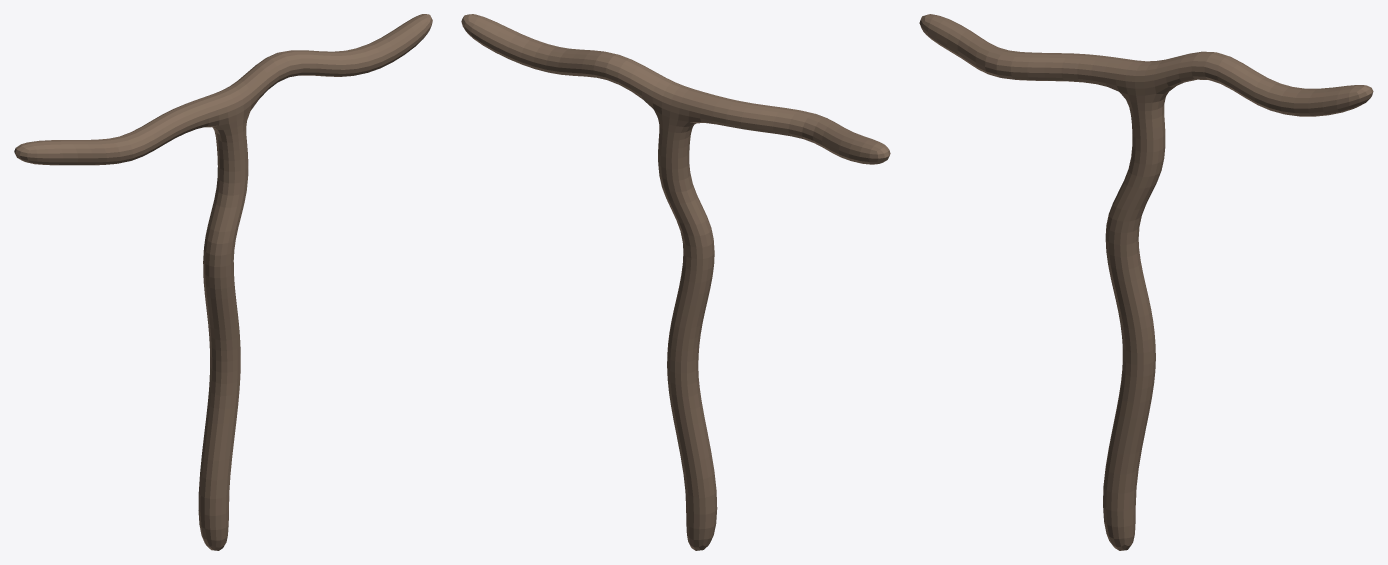
Rendered from FlowerPTwo.fbx.
3 views of the same model, side by side, from view 1: azimuth 30°, elevation 25°; view 2: azimuth 150°, elevation 25°; view 3: azimuth 330°, elevation 25° (orthographic). The views are drawn at different scales.
Parts seen in each view (by area): view 1: Flower Phase Two; view 2: Flower Phase Two; view 3: Flower Phase Two.
Boxes of the visible parts, <box> form: Flower Phase Two: <box>14,14,432,550</box>; Flower Phase Two: <box>461,14,890,550</box>; Flower Phase Two: <box>919,14,1373,550</box>.
Bounding box in the file's own units: 228 × 249 × 30.99.
